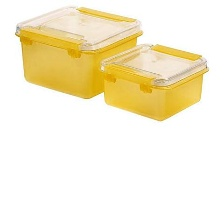plastic_box: (9, 0, 150, 103), (95, 37, 213, 126)
